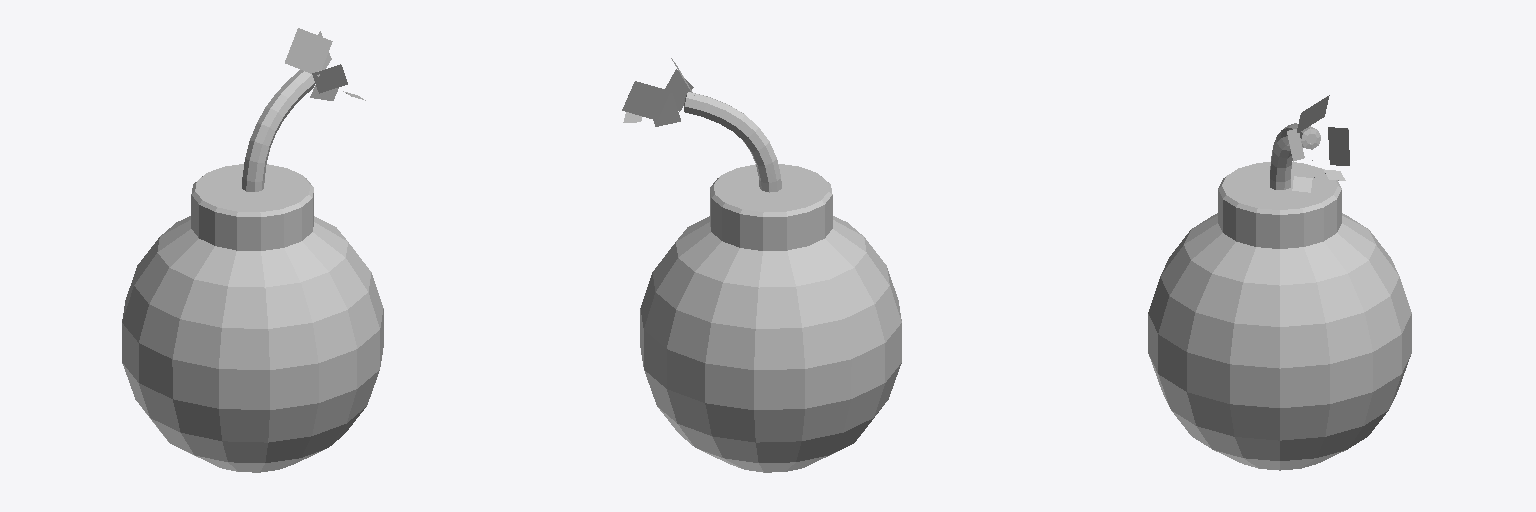
Rendered from bomb_000025.obj.
3 renders of one model, left to right at view 1: azimuth 30°, elevation 25°; view 2: azimuth 150°, elevation 25°; view 3: azimuth 270°, elevation 25°, orthographic.
Parts seen in each view (by area): view 1: Sphere, NurbsPath, Plane_5.001_Mesh.001; view 2: Sphere, NurbsPath, Plane_5.001_Mesh.001; view 3: Sphere, Plane_5.001_Mesh.001, NurbsPath.
Boxes of the visible parts, x1,y1,x2,y2 form: Sphere: [122, 164, 383, 472]; NurbsPath: [242, 70, 315, 191]; Plane_5.001_Mesh.001: [285, 28, 365, 100]; Sphere: [640, 164, 901, 472]; NurbsPath: [684, 92, 781, 192]; Plane_5.001_Mesh.001: [622, 58, 694, 126]; Sphere: [1148, 162, 1411, 470]; Plane_5.001_Mesh.001: [1287, 95, 1349, 192]; NurbsPath: [1270, 123, 1320, 189].
Bounding box in the file's own units: 0.8264 × 1.3 × 0.804.